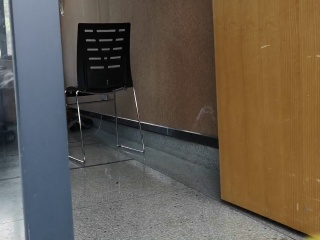room: (4, 3, 316, 240)
